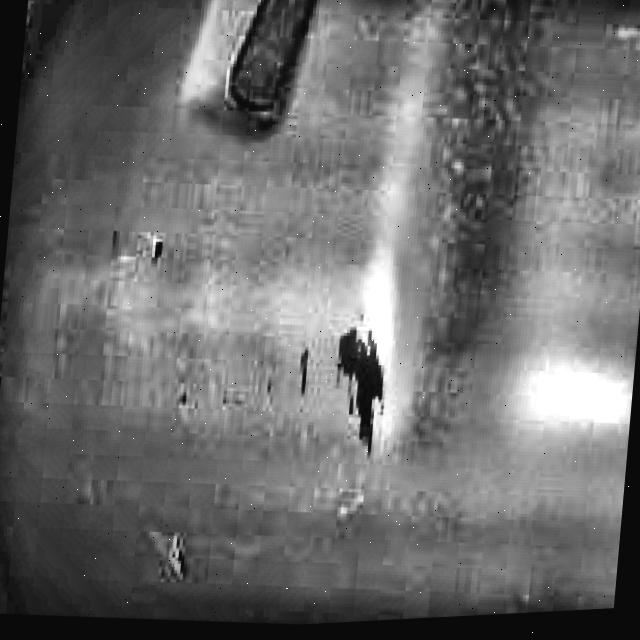bumper_scratch: (134, 303, 410, 606)
